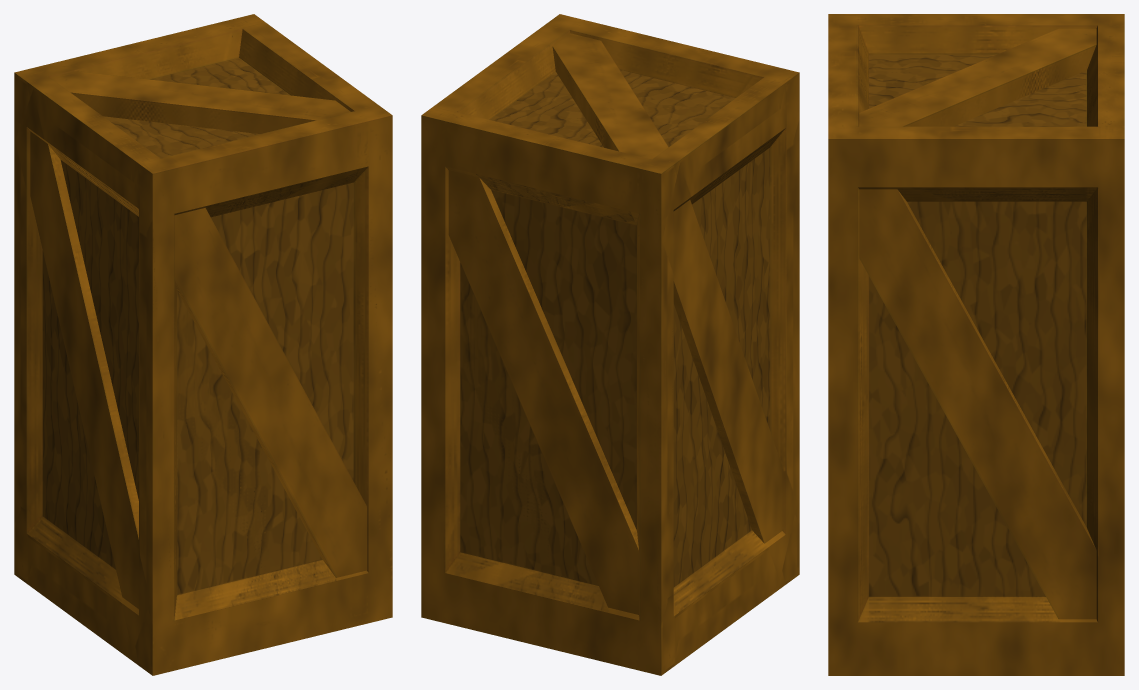
File: TallBoxV.fbx
3 views of the same model, side by side, from view 1: azimuth 30°, elevation 25°; view 2: azimuth 150°, elevation 25°; view 3: azimuth 270°, elevation 25° (orthographic). The views are drawn at different scales.
Parts seen in each view (by area): view 1: TallBoxV; view 2: TallBoxV; view 3: TallBoxV.
Part boxes in pixels (left/top/right/bottom): TallBoxV: left=14, top=14, right=392, bottom=675; TallBoxV: left=421, top=14, right=799, bottom=675; TallBoxV: left=828, top=14, right=1124, bottom=675.
Size of the model in its own units: 220 by 440 by 220.
Materials: 1 (1 with a texture image).
